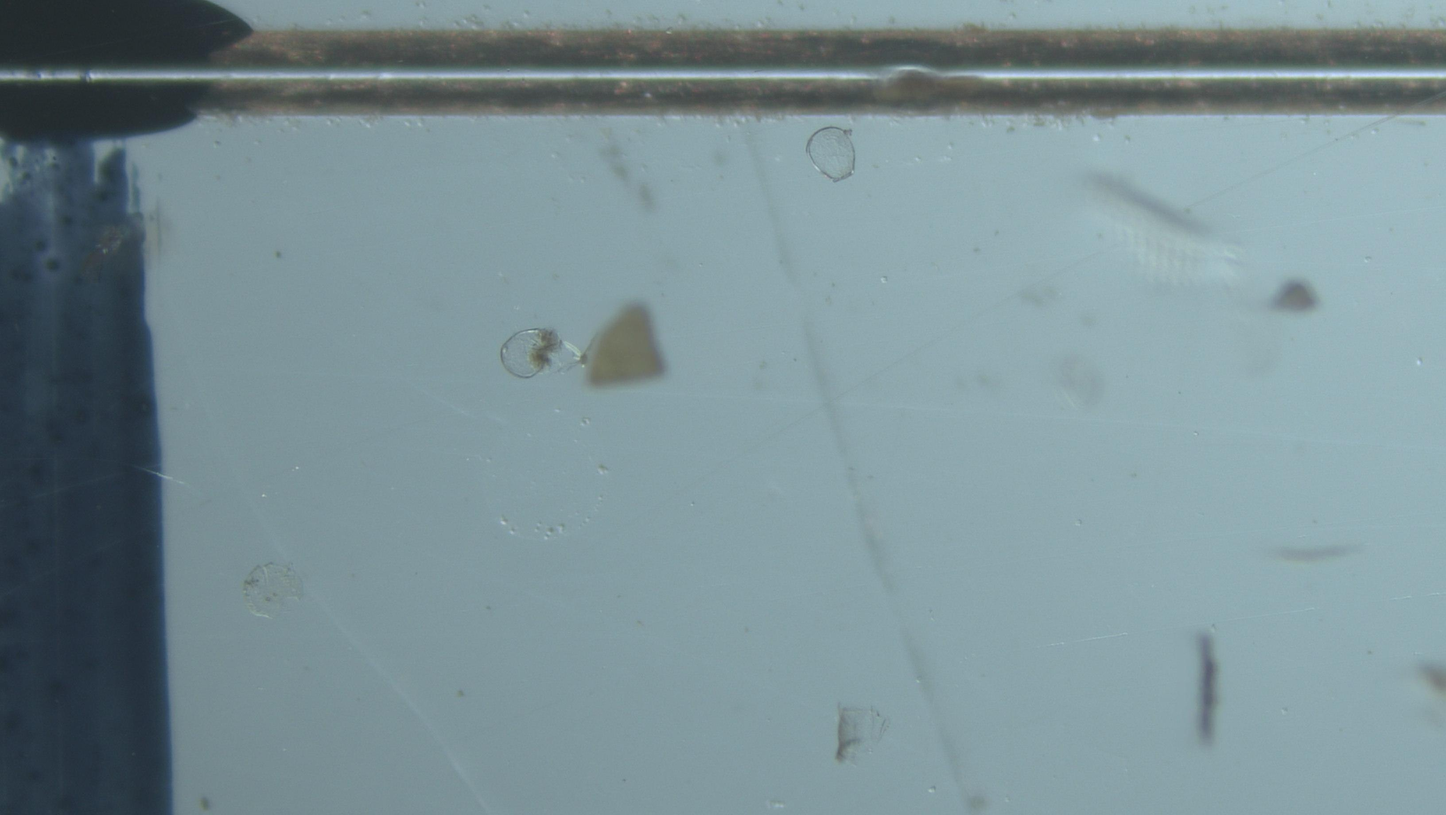dead: (500, 328, 585, 379), (806, 127, 856, 181)
